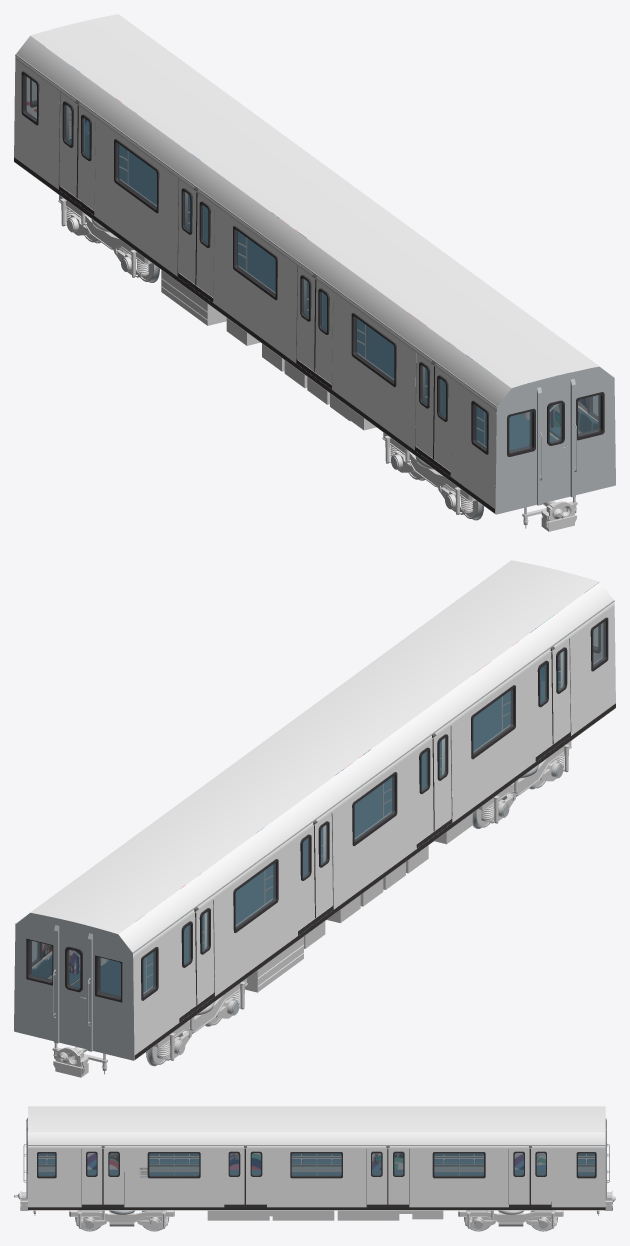
The model's file is car-4.glb.
3 renders of one model, top to bottom at view 1: azimuth 30°, elevation 25°; view 2: azimuth 150°, elevation 25°; view 3: azimuth 270°, elevation 25°, orthographic. The views are drawn at different scales.
Visible parts, largest first — view 1: Mesh492.017, Mesh589.002, Mesh253.003, Mesh560.002, Mesh524.004, Cube.156, Cube.157, Cube.155, Mesh11.002, Mesh511.002, Mesh31.002, Cube.194 (+8 smaller); view 2: Mesh492.017, Mesh589.002, Mesh584.002, Mesh253.004, Mesh510.004, Cube.155, Cube.156, Cube.157, Mesh11.002, Mesh511.002, Mesh27.002, Cube.205 (+8 smaller); view 3: Mesh492.017, Mesh492.018, Cube.149, Cube.150, Cube.148, Mesh589.002, Mesh5.002, Mesh4.002, Mesh9.002, Mesh256.002, Mesh278.002, Mesh283.002 (+24 smaller).
Part boxes in pixels (left/top/right/bottom): Mesh492.017: left=14, top=14, right=599, bottom=514; Mesh589.002: left=69, top=134, right=556, bottom=450; Mesh253.003: left=495, top=376, right=555, bottom=514; Mesh560.002: left=555, top=366, right=615, bottom=499; Mesh524.004: left=542, top=395, right=570, bottom=493; Cube.156: left=235, top=230, right=275, bottom=295; Cube.157: left=116, top=143, right=156, bottom=208; Cube.155: left=354, top=316, right=394, bottom=382; Mesh11.002: left=161, top=270, right=226, bottom=325; Mesh511.002: left=15, top=54, right=497, bottom=407; Mesh31.002: left=541, top=500, right=576, bottom=531; Cube.194: left=578, top=394, right=600, bottom=436; Mesh492.017: left=30, top=560, right=615, bottom=1060; Mesh589.002: left=73, top=681, right=571, bottom=995; Mesh584.002: left=74, top=922, right=134, bottom=1060; Mesh253.004: left=14, top=913, right=73, bottom=1045; Mesh510.004: left=59, top=941, right=87, bottom=1039; Cube.155: left=473, top=689, right=513, bottom=754; Cube.156: left=354, top=775, right=394, bottom=841; Cube.157: left=235, top=862, right=275, bottom=928; Mesh11.002: left=245, top=937, right=303, bottom=992; Mesh511.002: left=132, top=600, right=614, bottom=953; Mesh27.002: left=53, top=1047, right=88, bottom=1077; Cube.205: left=29, top=940, right=52, bottom=981; Mesh492.017: left=28, top=1106, right=605, bottom=1210; Mesh492.018: left=87, top=1153, right=545, bottom=1169; Cube.149: left=291, top=1153, right=341, bottom=1175; Cube.150: left=149, top=1153, right=199, bottom=1175; Cube.148: left=434, top=1153, right=483, bottom=1175; Mesh589.002: left=38, top=1170, right=594, bottom=1175; Mesh5.002: left=207, top=1210, right=269, bottom=1220; Mesh4.002: left=337, top=1210, right=399, bottom=1220; Mesh9.002: left=272, top=1210, right=334, bottom=1220; Mesh256.002: left=511, top=1210, right=563, bottom=1229; Mesh278.002: left=122, top=1210, right=174, bottom=1229; Mesh283.002: left=69, top=1210, right=121, bottom=1229.
Bounding box in the file's own units: 2.67 × 3.63 × 19.13.
58 materials, 1 textured.
